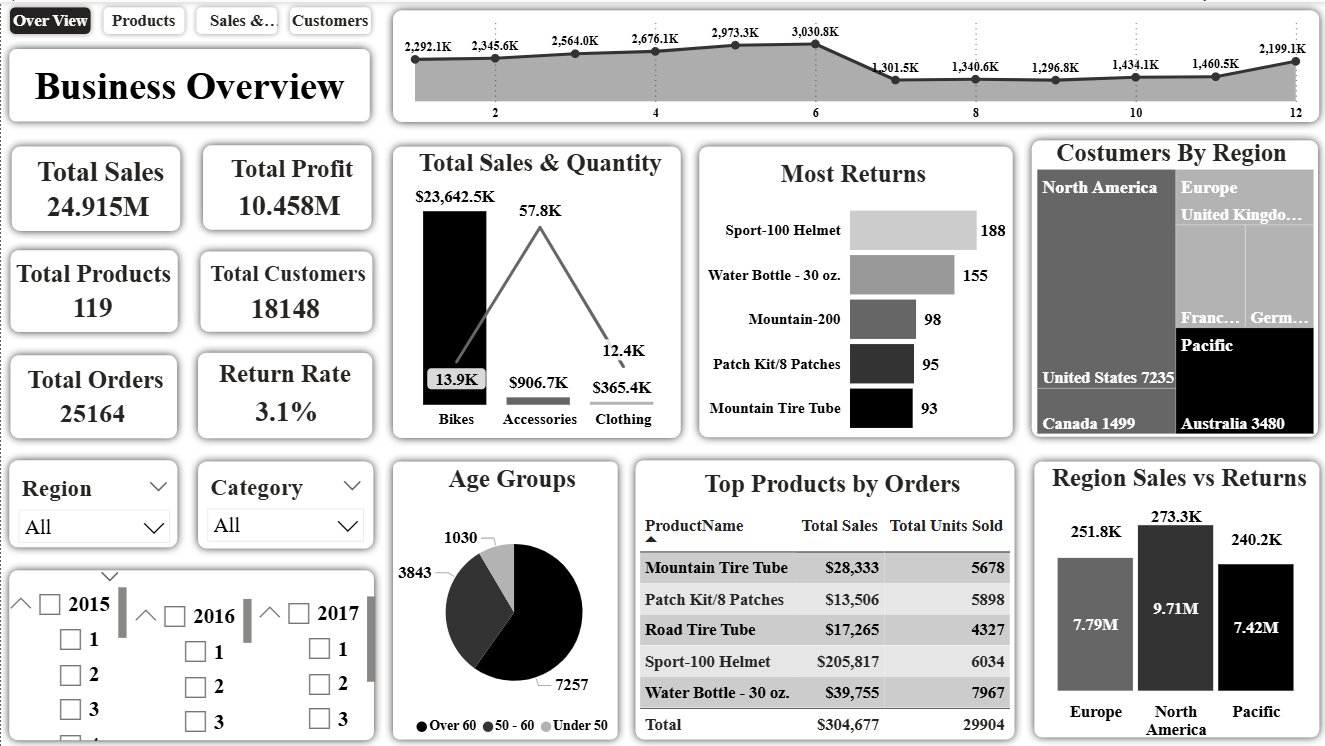

The dashboard page shown, as its layout file describes it:
{"tool":"powerbi","page":{"name":"Over View","canvas":[1280,720],"ordinal":0},"visuals":[{"type":"shape","box":[370,0,910,123.7],"z":0,"group":"g10"},{"type":"shape","box":[0,37,364,86],"z":0},{"type":"shape","box":[987.1,125.3,292.2,302.2],"z":0,"group":"g16"},{"type":"shape","box":[187.5,130.9,178.5,97.5],"z":0,"group":"g1"},{"type":"shape","box":[665.5,130.9,318.5,296.6],"z":0,"group":"g12"},{"type":"shape","box":[370,131,293.6,297.3],"z":0,"group":"g9"},{"type":"shape","box":[2.5,131.2,178.5,97.5],"z":0,"group":"g11"},{"type":"shape","box":[1.6,231.6,177.4,94.8],"z":0,"group":"g2"},{"type":"shape","box":[184.9,232.5,181.8,93.3],"z":0,"group":"g3"},{"type":"shape","box":[182.5,330,184.1,98.5],"z":0,"group":"g5"},{"type":"shape","box":[1.6,332.6,176.6,96],"z":0,"group":"g4"},{"type":"shape","box":[604.3,434.5,381.8,285.5],"z":0,"group":"g14"},{"type":"shape","box":[0.5,434.7,178.2,100],"z":0,"group":"g7"},{"type":"shape","box":[182.7,435,185.2,100],"z":0,"group":"g6"},{"type":"shape","box":[989.3,436.1,291.1,282.2],"z":0,"group":"g13"},{"type":"lineStackedColumnComboChart","title":"Sales vs Returns ","fields":{"Category":["Territories.Continent","Territories.Country","Territories.Region"],"Y":["Sales_All.Total Sales"],"Y2":["Sales_All.Return Amount"]},"box":[974.5,468.2,304.6,251.8],"z":0,"group":"g18"},{"type":"shape","box":[0,540.3,368,180],"z":0,"group":"g8"},{"type":"treemap","title":"Sales vs Returns ","fields":{"Group":["Territories.Continent","Territories.Country","Territories.Region"],"Values":["Customers.Active Customers"],"Details":["Territories.Country"]},"box":[995.7,161,271.8,260],"z":500,"group":"g16"},{"type":"stackedAreaChart","title":"Sales by Time","fields":{"Category":["Calendar.Month"],"Y":["Sales_All.Total Sales"]},"box":[385,7.7,880,114.8],"z":1000,"group":"g10"},{"type":"textbox","box":[991.4,126,276.2,43.8],"z":1000,"group":"g16"},{"type":"group","id":"g1","title":"Group 1","box":[187.5,130.9,178.8,105],"z":1000},{"type":"lineStackedColumnComboChart","title":"Total Sales & Quantity","fields":{"Category":["Categories.CategoryName"],"Y":["Sales_All.Total Sales"],"Y2":["CProducts.Total Units Sold"]},"box":[370,140.3,300,277.8],"z":1000,"group":"g9"},{"type":"cardVisual","fields":{"Data":["Sales_All.Profit"]},"box":[191.3,155.9,175.3,79.6],"z":1000,"group":"g1"},{"type":"cardVisual","fields":{"Data":["Sales_All.Total Sales"]},"box":[6.3,156.2,175.3,79.6],"z":1000,"group":"g11"},{"type":"barChart","title":"Customers by Occupation","fields":{"Category":["CProducts.ProductName"],"Y":["CProducts.Return Quantity"]},"box":[679.9,170.2,289,257.8],"z":1000,"group":"g12"},{"type":"cardVisual","fields":{"Data":["CProducts.Total Products"]},"box":[0.5,255.6,178,77.5],"z":1000,"group":"g2"},{"type":"cardVisual","fields":{"Data":["Customers.Total Customers"]},"box":[183.8,256.2,182.4,76.3],"z":1000,"group":"g3"},{"type":"cardVisual","fields":{"Data":["Sales_All.Return Rate"]},"box":[184.1,354.3,184.7,80.7],"z":1000,"group":"g5"},{"type":"cardVisual","fields":{"Data":["Sales_All.Total Orders"]},"box":[0.5,358.8,177.9,73.8],"z":1000,"group":"g4"},{"type":"slicer","title":"Category ","fields":{"Values":["Categories.CategoryName","Subcategories.SubcategoryName"]},"box":[194.6,451.2,161.1,80.8],"z":1000,"group":"g6"},{"type":"slicer","title":"Category ","fields":{"Values":["Territories.Continent","Territories.Country"]},"box":[12.8,452.2,156.2,81.7],"z":1000,"group":"g7"},{"type":"tableEx","title":"Top Products by Orders","fields":{"Values":["CProducts.ProductName","Sales_All.Total Sales","CProducts.Total Units Sold"]},"box":[610.4,484.7,397.1,232.9],"z":1000,"group":"g14"},{"type":"slicer","title":"Category ","fields":{"Values":["Calendar.Year","Calendar.Month"]},"box":[0.7,546.3,120,166.7],"z":1000,"group":"g8"},{"type":"textbox","box":[203.8,142.5,153.7,52.1],"z":2000,"group":"g1"},{"type":"textbox","box":[18.8,142.8,153.7,52.1],"z":2000,"group":"g11"},{"type":"textbox","box":[679.9,147.1,284.3,45.1],"z":2000,"group":"g12"},{"type":"group","id":"g2","title":"Group 1","box":[0.5,231.6,178.4,101.6],"z":2000},{"type":"textbox","box":[5.5,243.6,169,50],"z":2000,"group":"g2"},{"type":"textbox","box":[197,244,161,51],"z":2000,"group":"g3"},{"type":"textbox","box":[186.7,339.3,176.4,52.9],"z":2000,"group":"g5"},{"type":"textbox","box":[3.6,345.6,175,38.8],"z":2000,"group":"g4"},{"type":"textbox","box":[669.6,446.2,265.7,40.8],"z":2000,"group":"g14"},{"type":"slicer","title":"Category ","fields":{"Values":["Calendar.Year","Calendar.Month"]},"box":[122,546.3,120,167.3],"z":2000,"group":"g8"},{"type":"group","id":"g3","title":"Group 1","box":[183.8,232.5,182.9,100],"z":3000},{"type":"slicer","title":"Category ","fields":{"Values":["Calendar.Year","Calendar.Month"]},"box":[241,544,120,170],"z":3000,"group":"g8"},{"type":"group","id":"g4","title":"Group 1","box":[0.5,332.6,178.1,100],"z":4000},{"type":"group","id":"g5","title":"Group 1","box":[182.5,330,186.2,105],"z":5000},{"type":"group","id":"g6","title":"Group 2","box":[182.7,435,185,100],"z":6000},{"type":"group","id":"g7","title":"Group 3","box":[0.5,434.7,178.4,100],"z":7000},{"type":"group","id":"g8","title":"Group 4","box":[0,540.3,368,180],"z":8000},{"type":"group","id":"g9","title":"Group 5","box":[370,131,300,297.3],"z":9000},{"type":"group","id":"g10","title":"Group 7","box":[370,0,910,123.8],"z":11000},{"type":"group","id":"g11","title":"Group 1","box":[2.5,131.2,178.8,105],"z":13000},{"type":"pageNavigator","box":[3.3,0,360,36.7],"z":14000},{"type":"group","id":"g12","title":"Group 6","box":[665.5,130.9,318.2,296.4],"z":15000},{"type":"group","id":"g13","title":"Group 6","box":[989.3,436.1,291.1,282.2],"z":15000,"group":"g17"},{"type":"group","id":"g14","title":"Group 11","box":[604.3,434.5,403.3,285.5],"z":16000},{"type":"textbox","box":[1004.5,440.5,264.7,42.7],"z":16000,"group":"g17"},{"type":"shape","box":[370.2,435.7,232.9,284.3],"z":16500,"group":"g15"},{"type":"group","id":"g15","title":"Group 8","box":[370.2,435.7,245.7,284.3],"z":17000},{"type":"textbox","box":[407.1,441.4,171.1,48.2],"z":17000,"group":"g15"},{"type":"group","id":"g16","title":"Group 6","box":[987.1,125.3,292.2,302.2],"z":18000},{"type":"group","id":"g17","title":"Group 9","box":[974.5,436.1,305.9,283.9],"z":19000},{"type":"pieChart","title":"Top Products by Orders","fields":{"Category":["Customers.Age Group"],"Y":["Customers.Active Customers"]},"box":[374.5,490.1,241.4,228.3],"z":19000,"group":"g15"},{"type":"group","id":"g18","title":"Group 6","box":[974.5,468.2,304.6,251.8],"z":21000,"group":"g17"}]}

Visuals, with their boxes in screenshot pixels (x1, y1, x2, y2), scaled from the page's 1280x720 canvas onto the 1325x746 screenshot:
shape: Rect(383, 0, 1324, 128)
shape: Rect(0, 38, 377, 127)
shape: Rect(1022, 130, 1324, 443)
shape: Rect(194, 136, 379, 237)
shape: Rect(689, 136, 1019, 443)
shape: Rect(383, 136, 687, 444)
shape: Rect(3, 136, 187, 237)
shape: Rect(2, 240, 185, 338)
shape: Rect(191, 241, 380, 338)
shape: Rect(189, 342, 379, 444)
shape: Rect(2, 345, 184, 444)
shape: Rect(626, 450, 1021, 745)
shape: Rect(1, 450, 185, 554)
shape: Rect(189, 451, 381, 554)
shape: Rect(1024, 452, 1324, 744)
"Sales vs Returns " lineStackedColumnComboChart: Rect(1009, 485, 1324, 745)
shape: Rect(0, 560, 381, 745)
"Sales vs Returns " treemap: Rect(1031, 167, 1312, 436)
"Sales by Time" stackedAreaChart: Rect(399, 8, 1309, 127)
textbox: Rect(1026, 131, 1312, 176)
"Group 1" group: Rect(194, 136, 379, 244)
"Total Sales & Quantity" lineStackedColumnComboChart: Rect(383, 145, 694, 433)
cardVisual - Sales_All.Profit: Rect(198, 162, 379, 244)
cardVisual - Sales_All.Total Sales: Rect(7, 162, 188, 244)
"Customers by Occupation" barChart: Rect(704, 176, 1003, 443)
cardVisual - CProducts.Total Products: Rect(1, 265, 185, 345)
cardVisual - Customers.Total Customers: Rect(190, 265, 379, 345)
cardVisual - Sales_All.Return Rate: Rect(191, 367, 382, 451)
cardVisual - Sales_All.Total Orders: Rect(1, 372, 185, 448)
"Category " slicer: Rect(201, 467, 368, 551)
"Category " slicer: Rect(13, 469, 175, 553)
"Top Products by Orders" tableEx: Rect(632, 502, 1043, 744)
"Category " slicer: Rect(1, 566, 125, 739)
textbox: Rect(211, 148, 370, 202)
textbox: Rect(19, 148, 179, 202)
textbox: Rect(704, 152, 998, 199)
"Group 1" group: Rect(1, 240, 185, 345)
textbox: Rect(6, 252, 181, 304)
textbox: Rect(204, 253, 371, 306)
textbox: Rect(193, 352, 376, 406)
textbox: Rect(4, 358, 185, 398)
textbox: Rect(693, 462, 968, 505)
"Category " slicer: Rect(126, 566, 251, 739)
"Group 1" group: Rect(190, 241, 380, 345)
"Category " slicer: Rect(249, 564, 374, 740)
"Group 1" group: Rect(1, 345, 185, 448)
"Group 1" group: Rect(189, 342, 382, 451)
"Group 2" group: Rect(189, 451, 381, 554)
"Group 3" group: Rect(1, 450, 185, 554)
"Group 4" group: Rect(0, 560, 381, 745)
"Group 5" group: Rect(383, 136, 694, 444)
"Group 7" group: Rect(383, 0, 1324, 128)
"Group 1" group: Rect(3, 136, 188, 245)
pageNavigator: Rect(3, 0, 376, 38)
"Group 6" group: Rect(689, 136, 1018, 443)
"Group 6" group: Rect(1024, 452, 1324, 744)
"Group 11" group: Rect(626, 450, 1043, 745)
textbox: Rect(1040, 456, 1314, 501)
shape: Rect(383, 451, 624, 745)
"Group 8" group: Rect(383, 451, 638, 745)
textbox: Rect(421, 457, 599, 507)
"Group 6" group: Rect(1022, 130, 1324, 443)
"Group 9" group: Rect(1009, 452, 1324, 745)
"Top Products by Orders" pieChart: Rect(388, 508, 638, 744)
"Group 6" group: Rect(1009, 485, 1324, 745)
